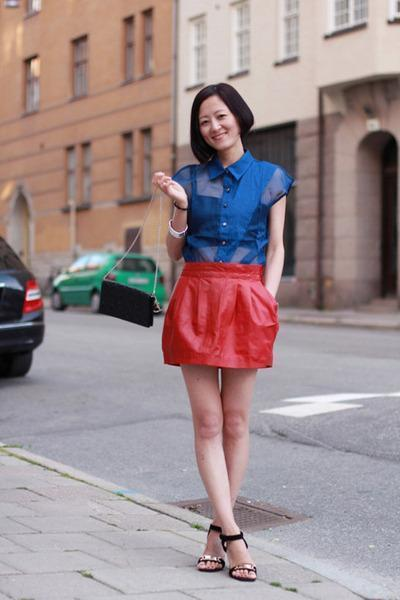shirt: (172, 150, 291, 265)
shoe: (197, 524, 256, 580)
skirt: (162, 262, 278, 367)
